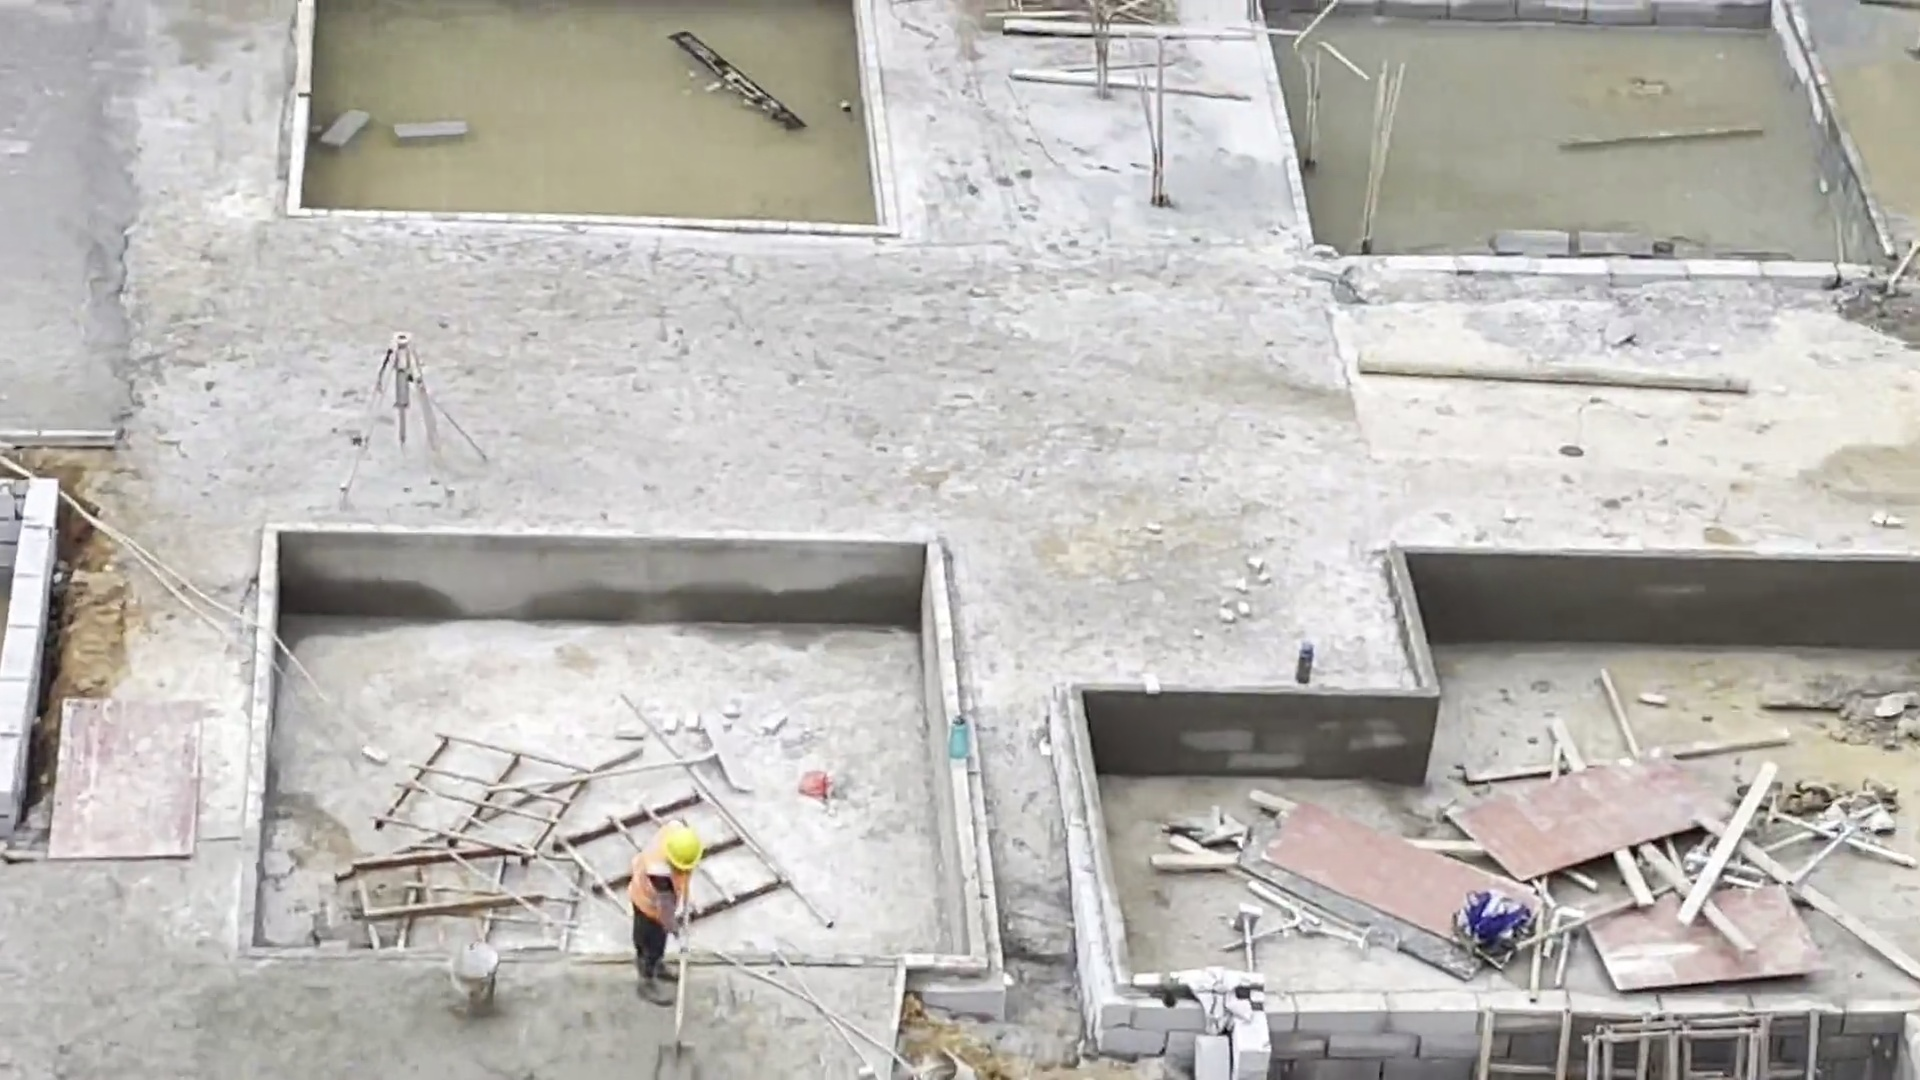helmet: (659, 820, 701, 873)
person: (633, 821, 700, 1006)
vest: (632, 822, 695, 930)
